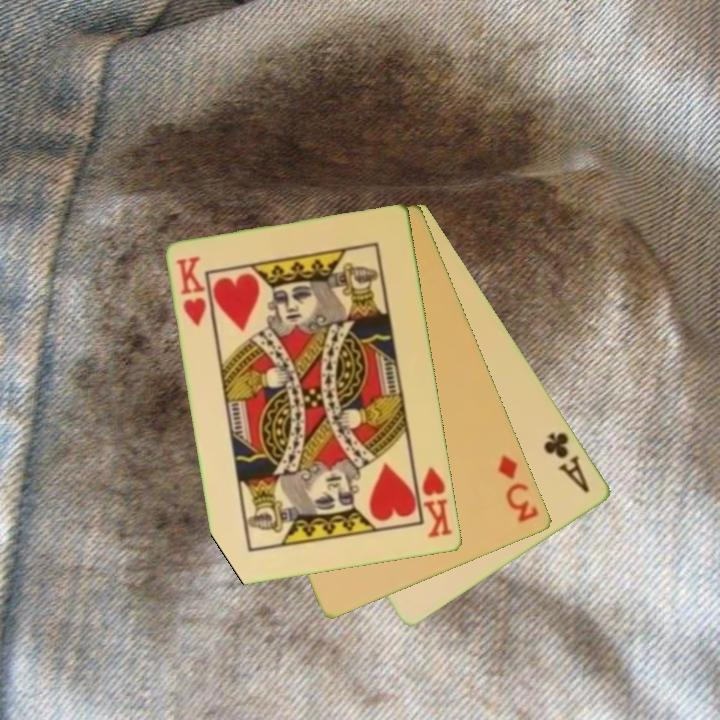3d: (494, 451, 542, 526)
Ac: (540, 428, 593, 497)
Kh: (411, 462, 455, 541), (172, 253, 210, 330)
